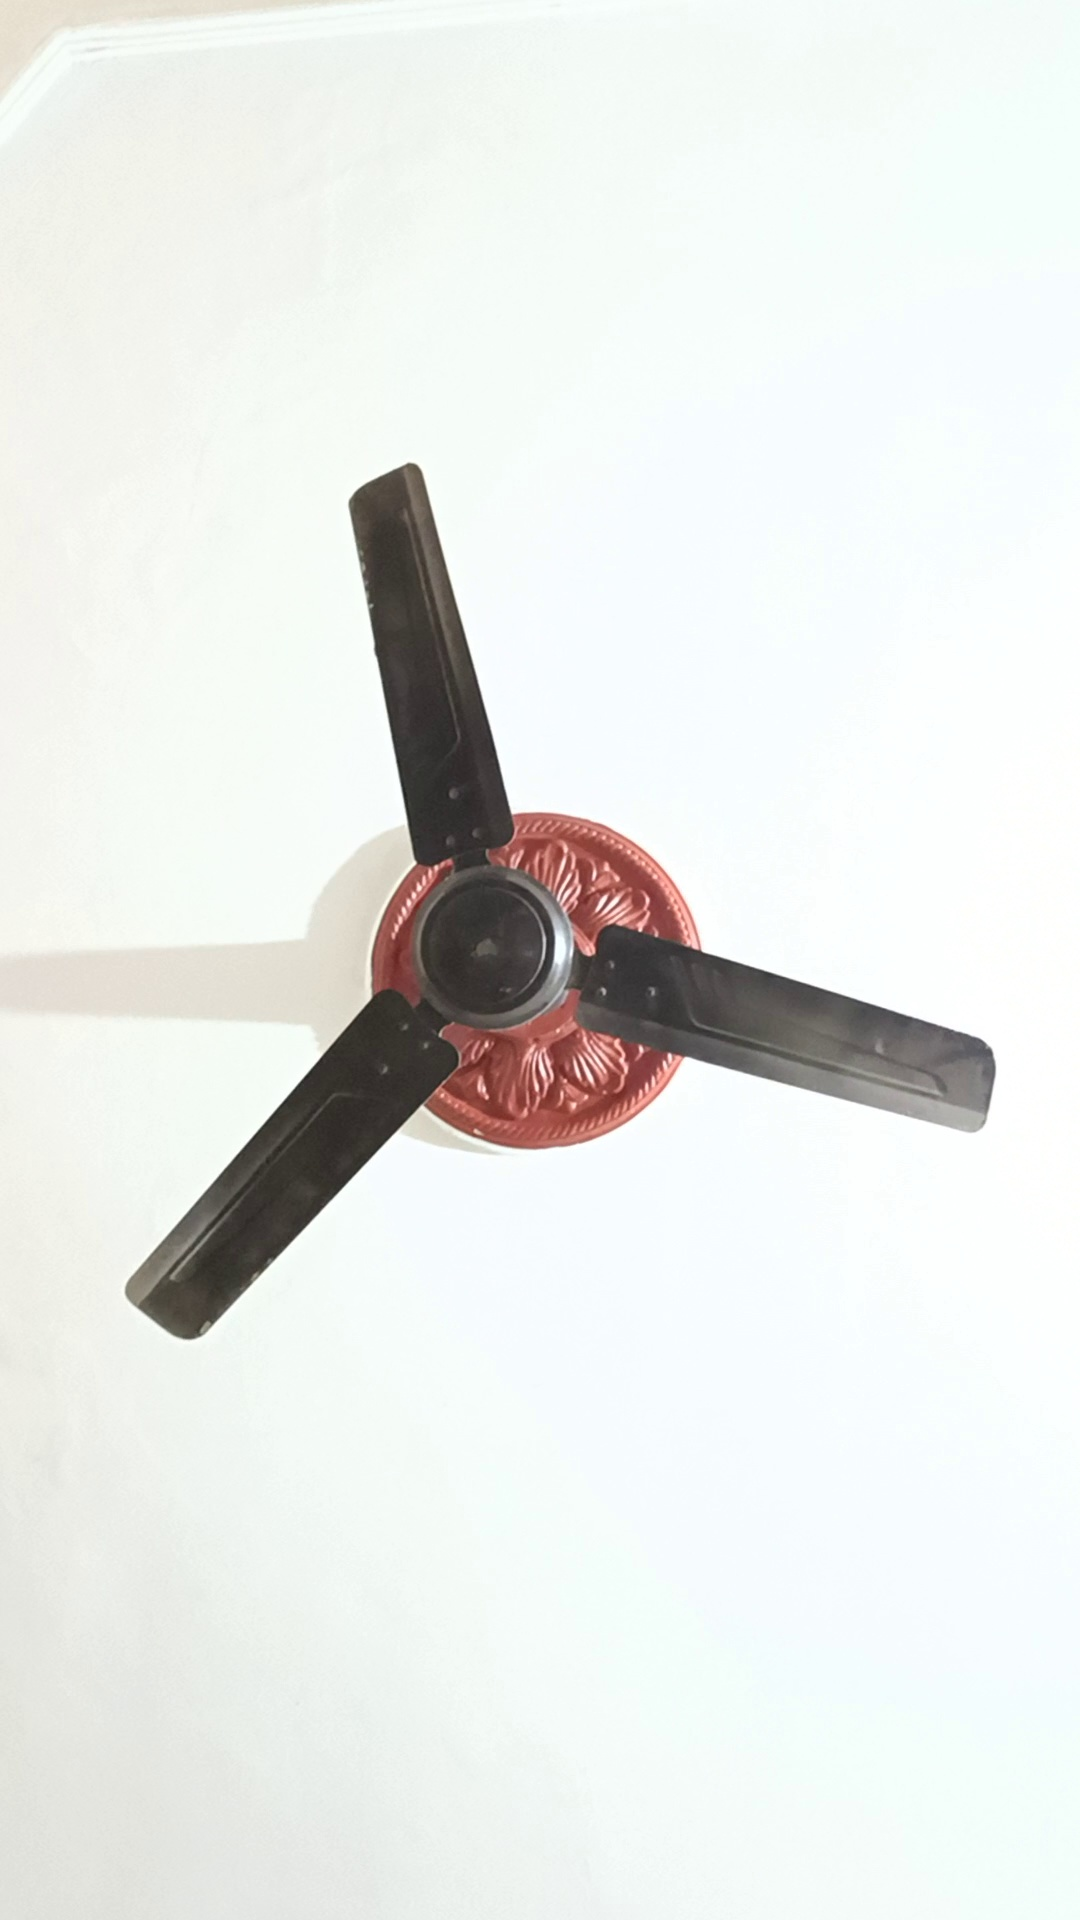fan: (117, 454, 1011, 1353)
